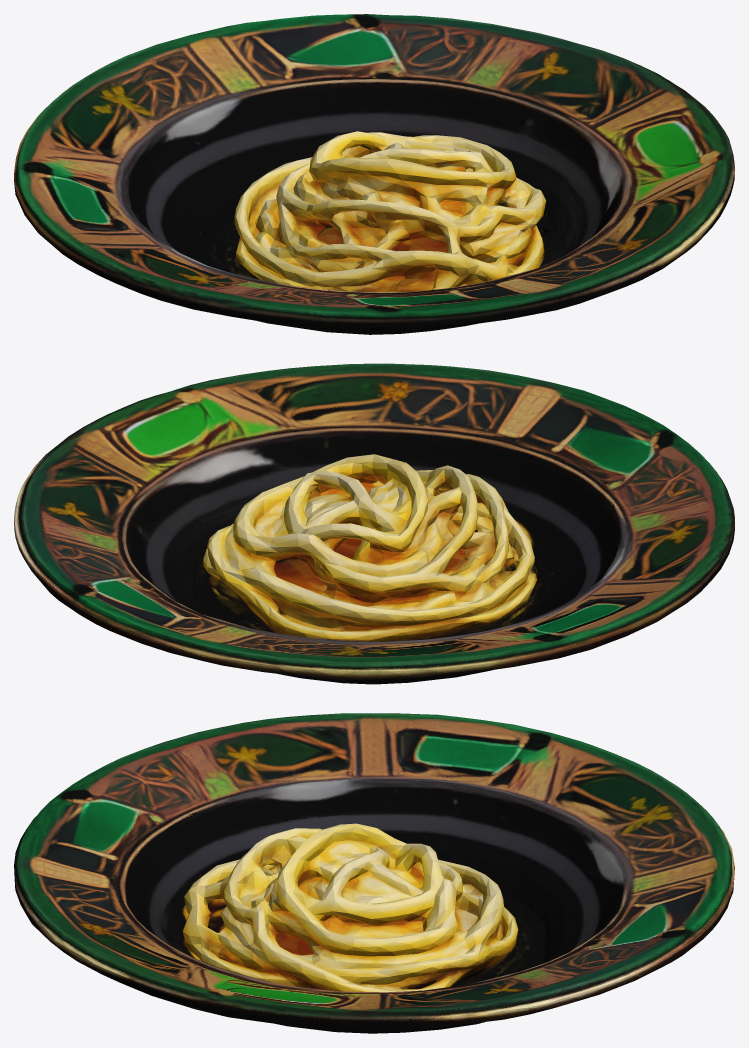
Rendered from porcelain-pasta-plate-art-deco.jpeg.glb.
3 views of the same model, one above another, from view 1: azimuth 30°, elevation 25°; view 2: azimuth 150°, elevation 25°; view 3: azimuth 270°, elevation 25° (orthographic).
Visible parts, largest first — view 1: world; view 2: world; view 3: world.
Part boxes in pixels (box(x1,y1,x2,y2)): world: box(14, 14, 734, 334); world: box(14, 363, 734, 684); world: box(14, 713, 734, 1033).
Bounding box in the file's own units: 1 × 0.1709 × 1.
Materials: 1 (1 with a texture image).
